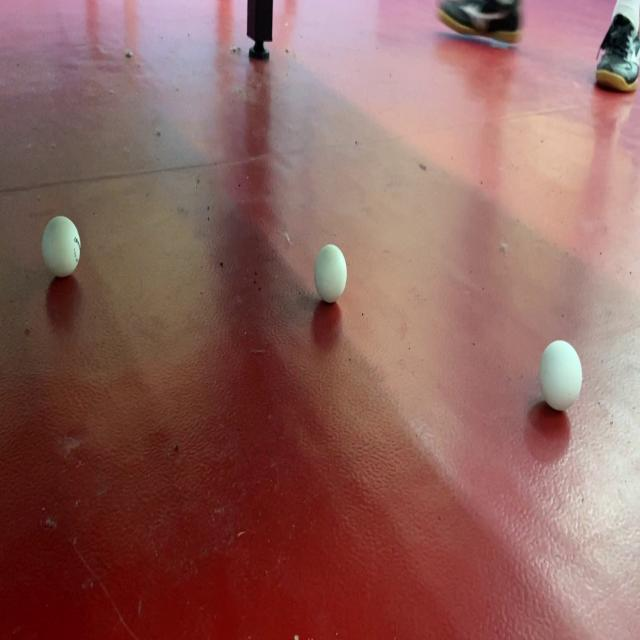ping-pong-ball: (537, 338, 584, 412), (40, 212, 83, 280), (313, 241, 349, 307)
